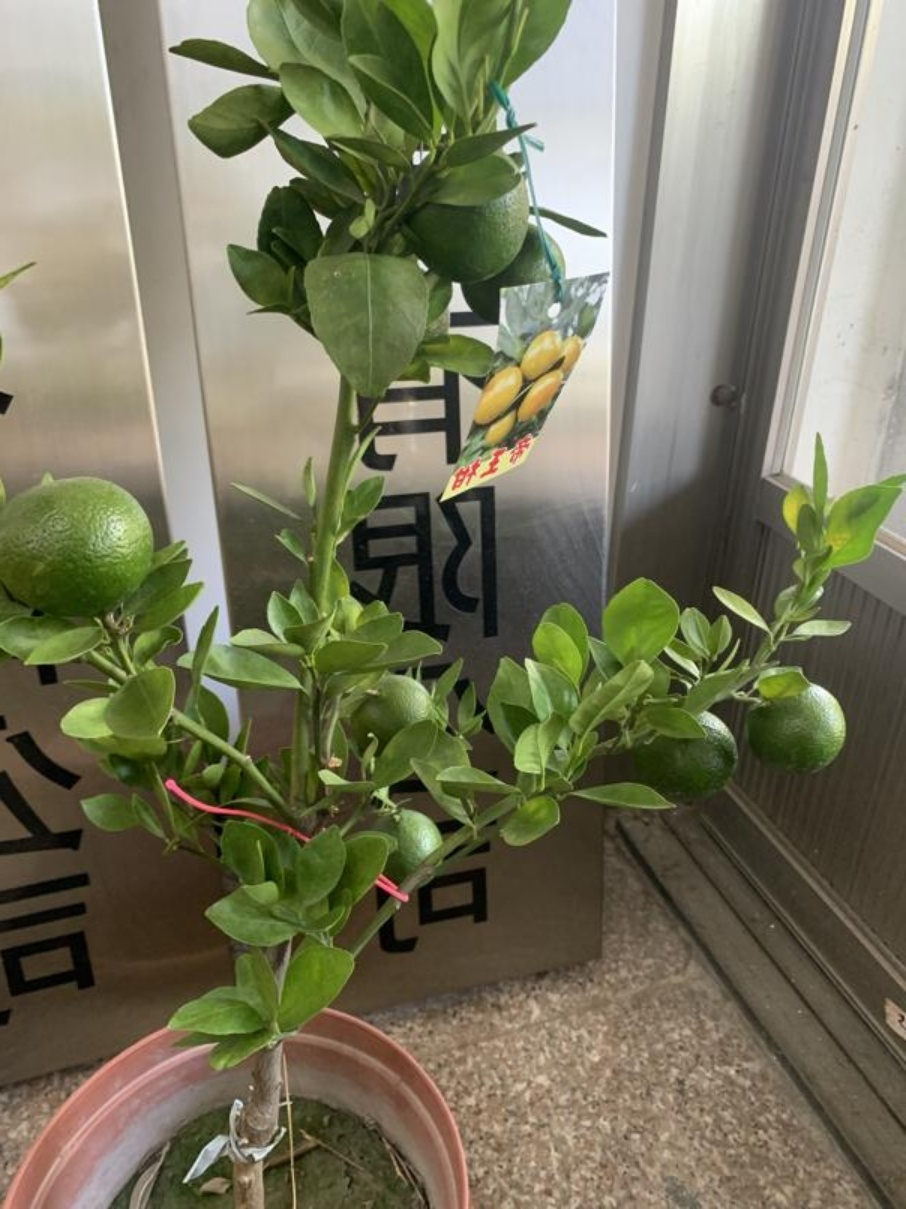Tangerine: (2, 470, 158, 618), (748, 674, 852, 777), (631, 708, 737, 805)
